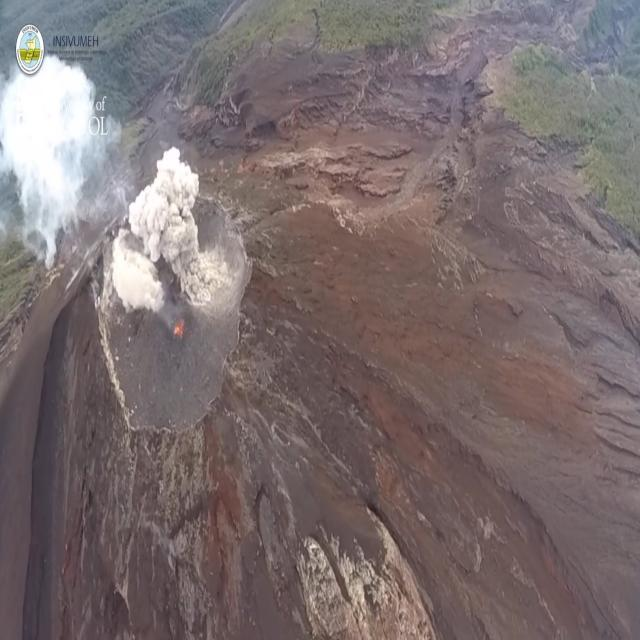Plume: (0, 53, 99, 252), (122, 143, 222, 304), (105, 228, 171, 323)
Summit: (66, 178, 276, 467)
